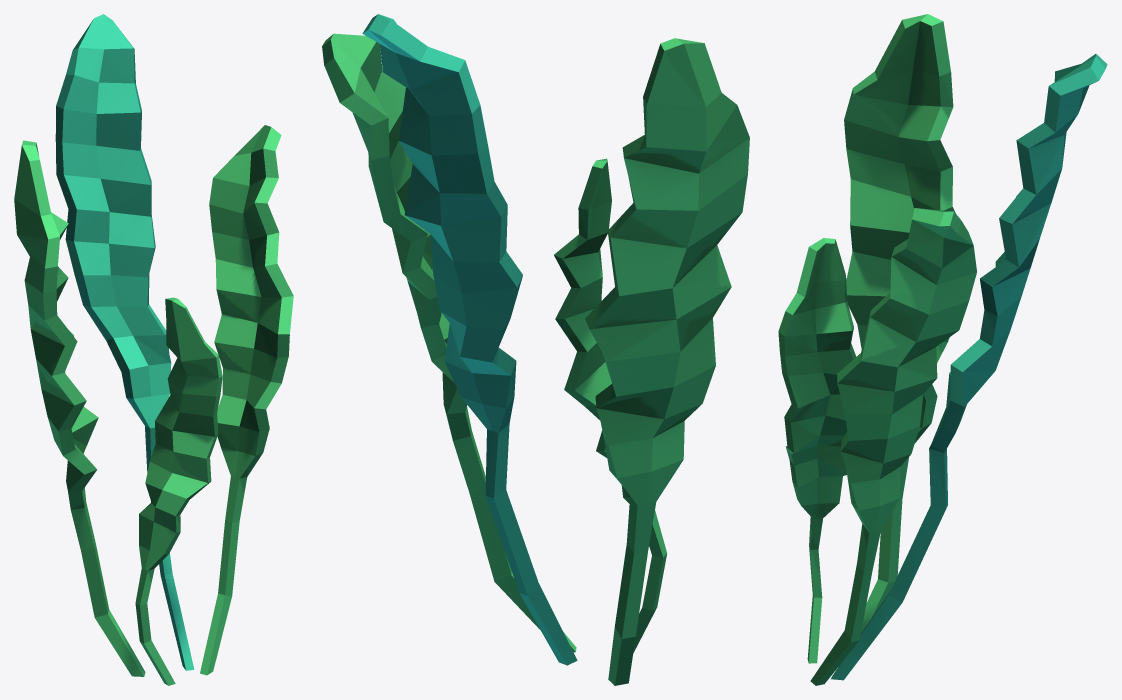
Rendered from seaweed2.glb.
3 views of the same model, side by side, from view 1: azimuth 30°, elevation 25°; view 2: azimuth 150°, elevation 25°; view 3: azimuth 270°, elevation 25° (orthographic). The views are drawn at different scales.
Parts seen in each view (by area): view 1: kelp; view 2: kelp; view 3: kelp.
Boxes of the visible parts, left/top/right/bottom form: kelp: left=14, top=14, right=293, bottom=685; kelp: left=322, top=14, right=749, bottom=685; kelp: left=778, top=14, right=1107, bottom=685.
Size of the model in its own units: 7.13 by 13.8 by 6.46.
1 material, 1 textured.
